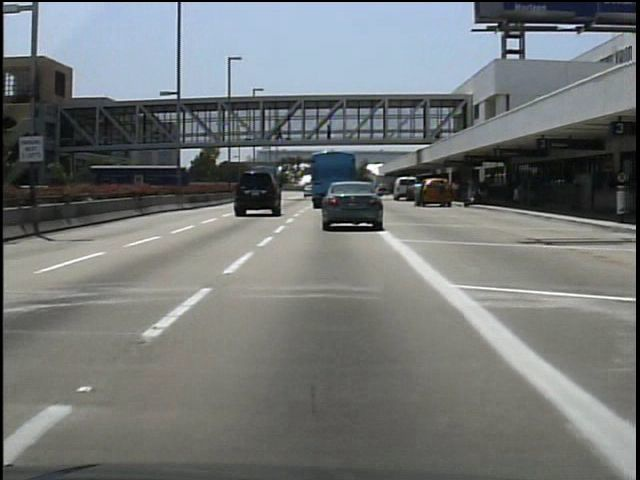person: (434, 176, 451, 211), (408, 179, 427, 209), (323, 120, 337, 147), (275, 118, 289, 140)
